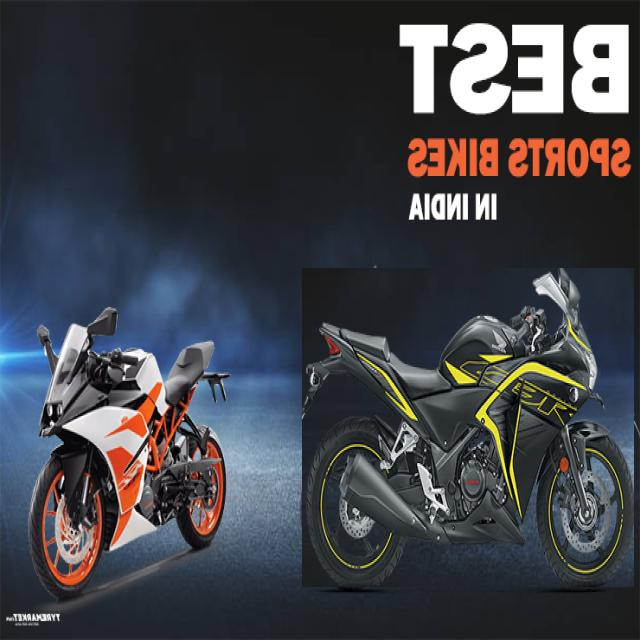motorcycle: (302, 269, 633, 587), (29, 307, 227, 598)
